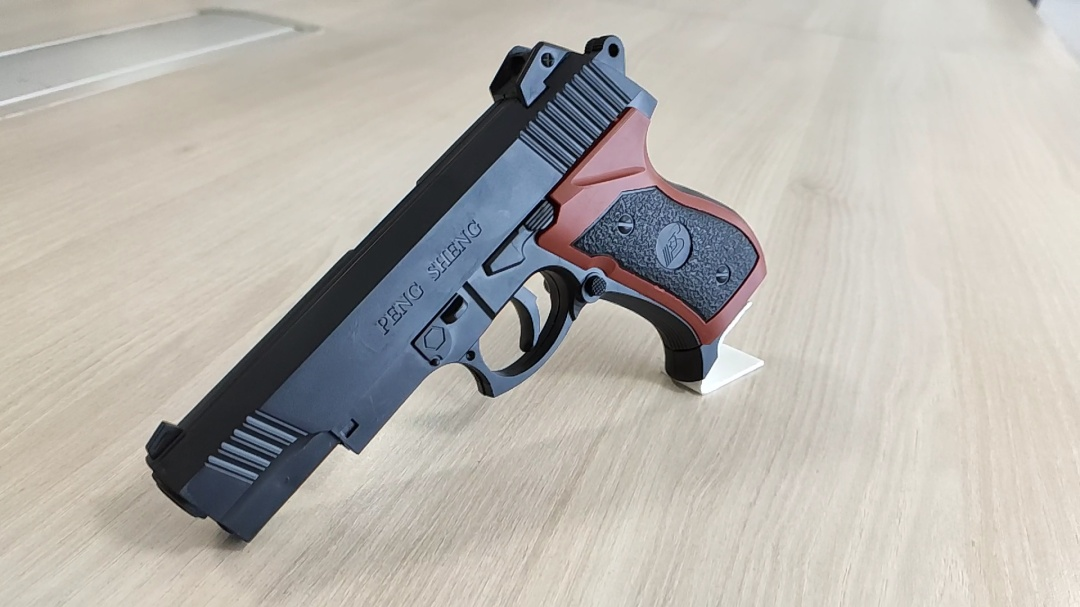gun: (517, 65, 695, 343)
